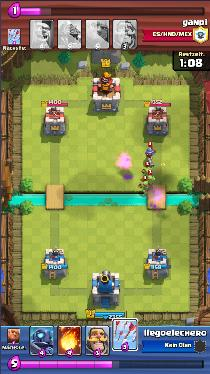enemy_musketeer: (146, 145, 154, 166)
enemy_spear_goblin: (140, 180, 151, 193), (145, 173, 154, 185), (143, 167, 151, 178)
